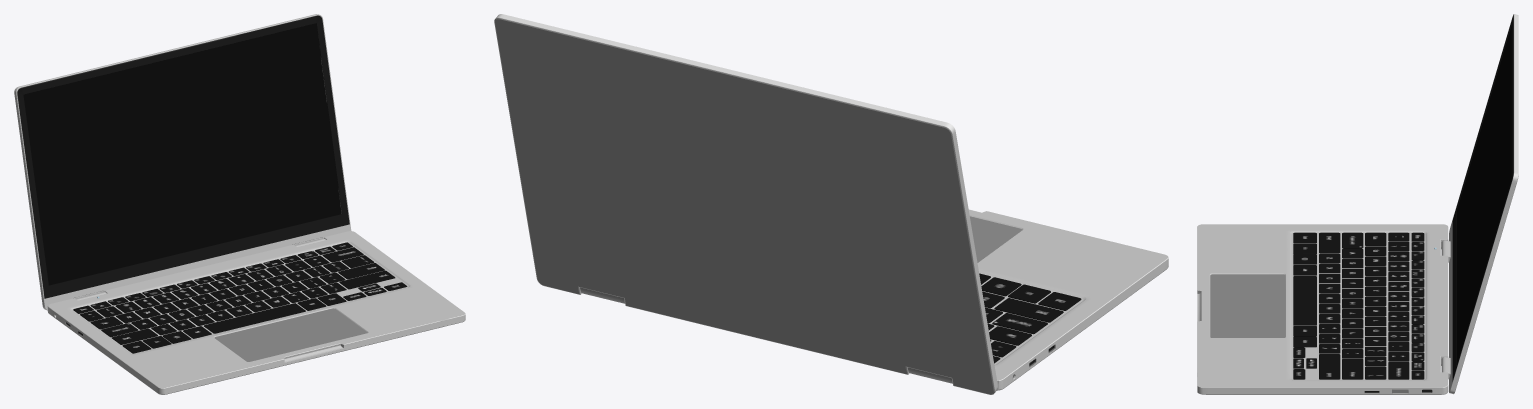
File: laptop_ST0JRG9.obj
3 views of the same model, side by side, from view 1: azimuth 30°, elevation 25°; view 2: azimuth 150°, elevation 25°; view 3: azimuth 270°, elevation 25° (orthographic). The views are drawn at different scales.
Visible parts, largest first — view 1: laptop; view 2: laptop; view 3: laptop.
Part boxes in pixels (x1,y1,x2,y2): laptop: [14, 14, 465, 394]; laptop: [494, 14, 1168, 394]; laptop: [1197, 14, 1518, 394].
Bounding box in the file's own units: 30.85 × 19.63 × 25.68.
1 material, 1 textured.
